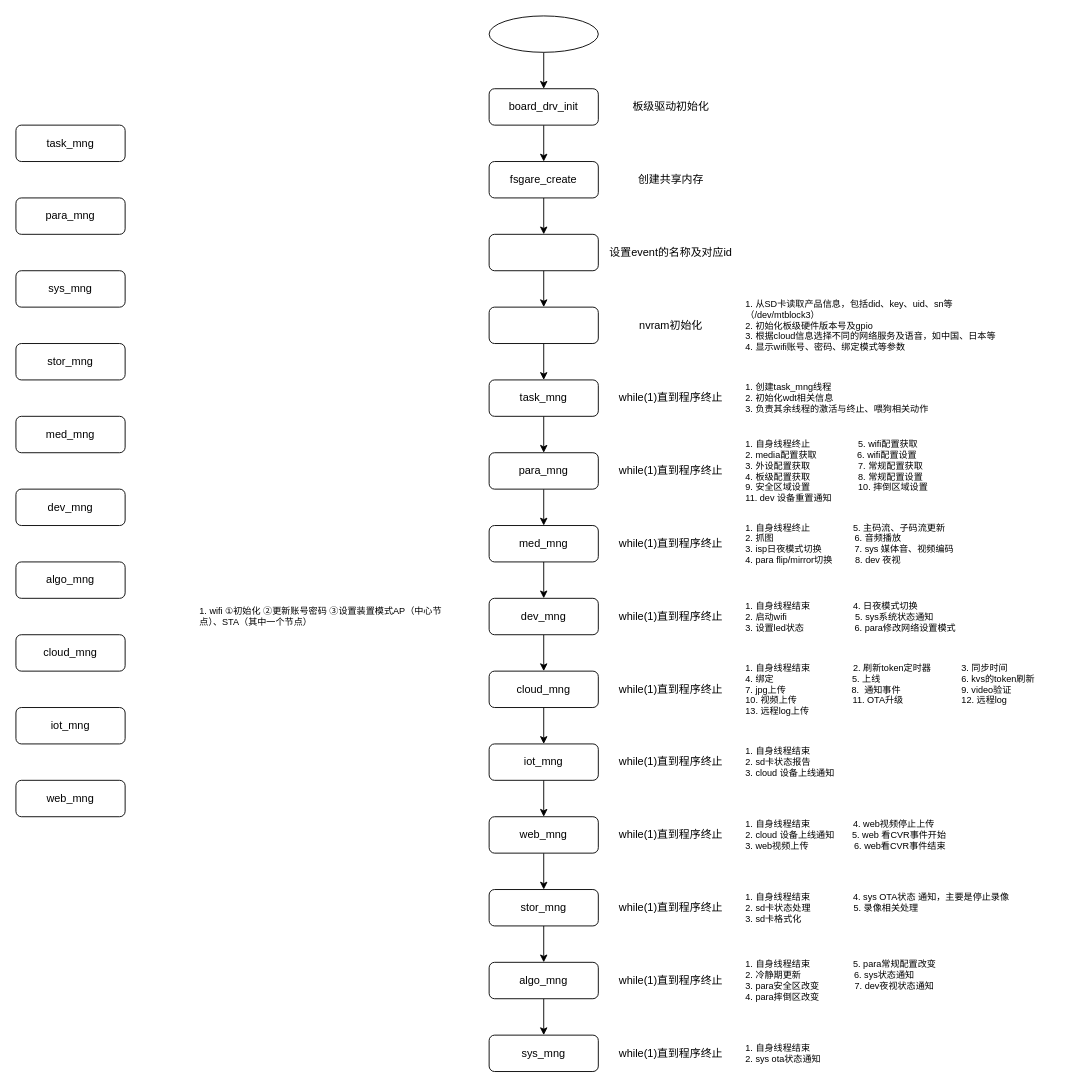
The diagram is 1087 pixels wide and 1087 high, and some of its shapes have lost their labels. Here are the shapes that lost their labels. From the top down, the centre of each, then its label:
At point (543, 33): "start".
At point (543, 252): "app_set_event_name".
At point (543, 325): "nvram_conf_init".
